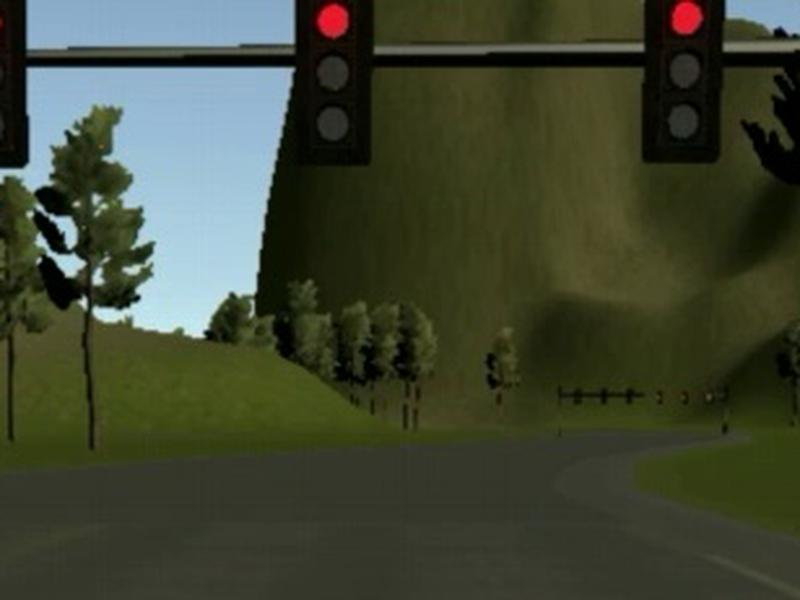Red: (642, 1, 728, 163), (295, 1, 372, 166), (1, 1, 30, 169)
